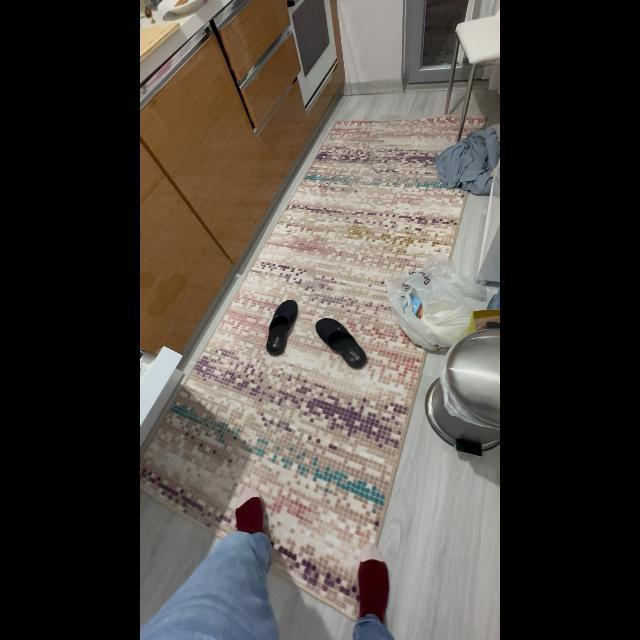slipper: (309, 312, 373, 374), (262, 297, 300, 358)
